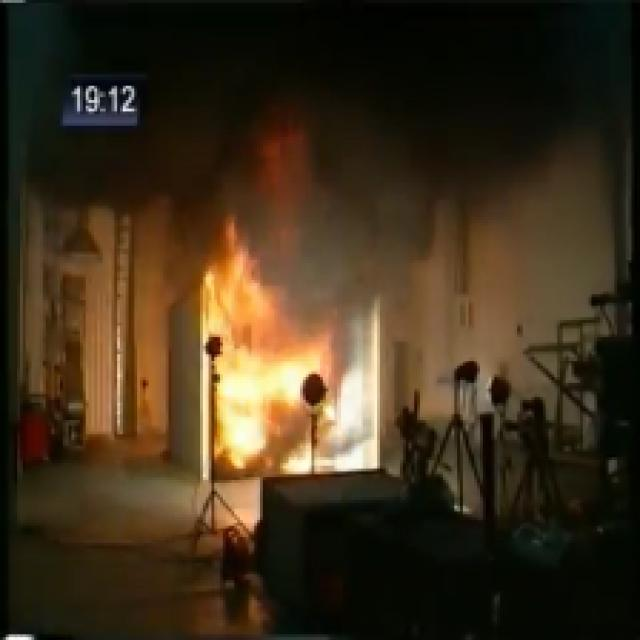Fire: (202, 265, 322, 484)
Smoke: (145, 29, 566, 148)
